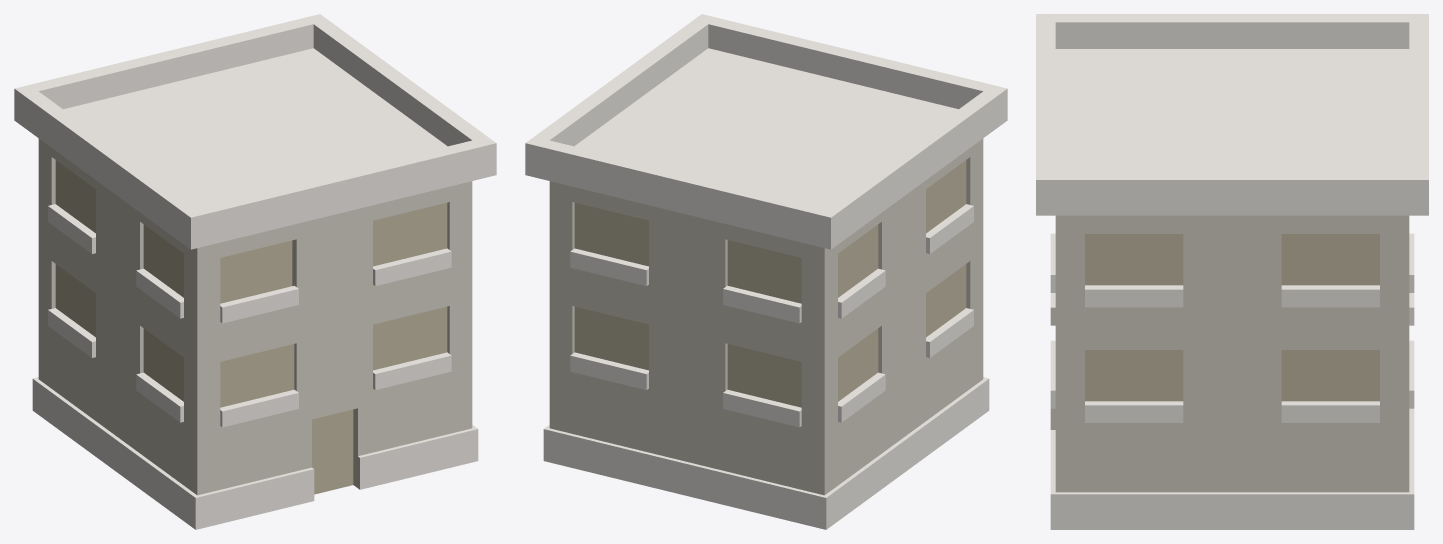
Rendered from Building 1.glb.
The picture shows the model from 3 angles, left to right: view 1: azimuth 30°, elevation 25°; view 2: azimuth 150°, elevation 25°; view 3: azimuth 270°, elevation 25°; orthographic projection. The views are drawn at different scales.
Visible parts, largest first — view 1: Building 1; view 2: Building 1; view 3: Building 1.
Boxes of the visible parts, <box> form: Building 1: <box>14,14,496,529</box>; Building 1: <box>525,14,1007,529</box>; Building 1: <box>1036,14,1428,529</box>.
Size of the model in its own units: 0.8 by 0.8 by 0.8.
